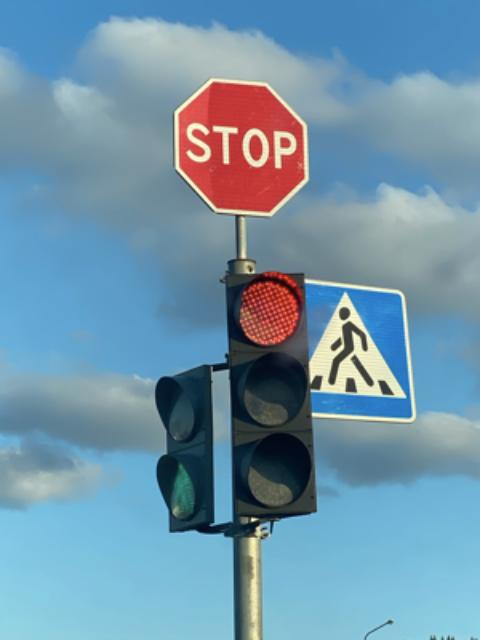crosswalk-sign: (304, 277, 417, 425)
